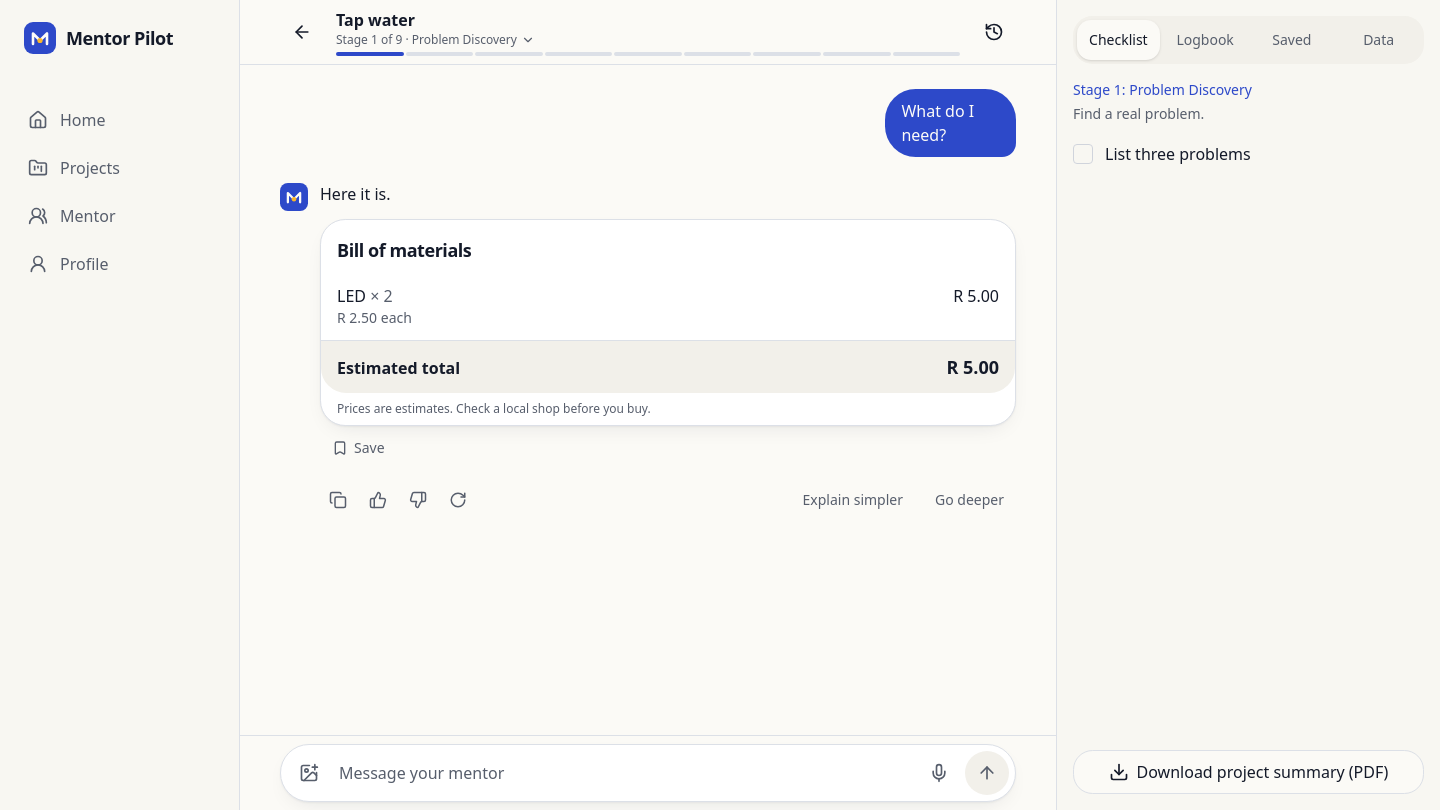
Scenario: project tools › saves a block from a reply and lists it under Saved
This screenshot has width=1440, height=810.
Click the button "Save" at point(358, 448), box [320,430,397,466]
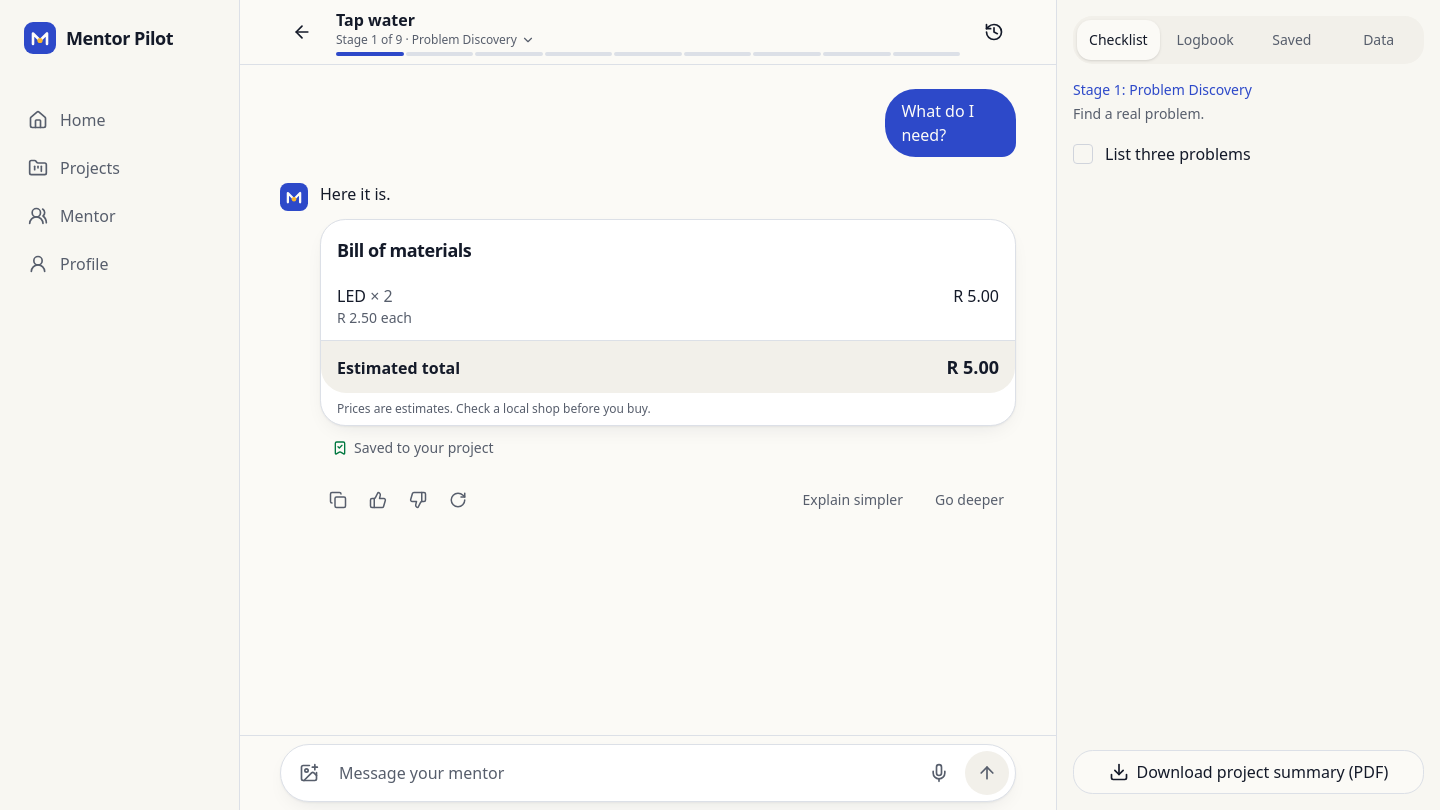
Expected: the button "Saved to your project" is shown, [320,430,506,466]
